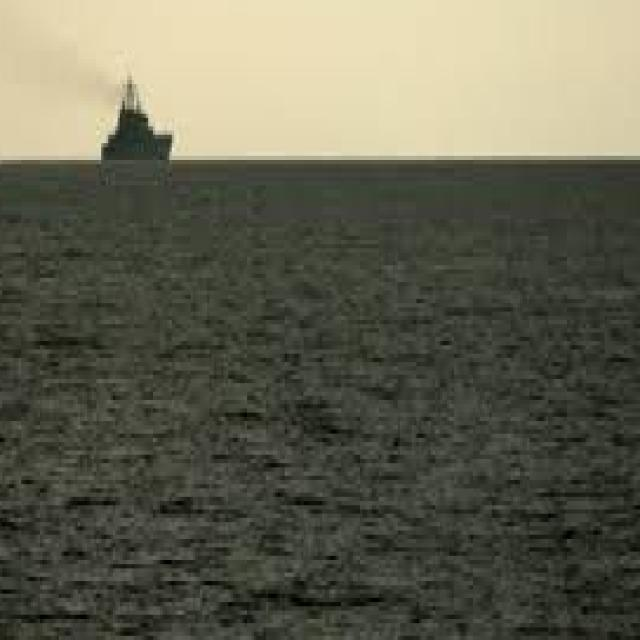cargoship: (92, 72, 183, 180)
